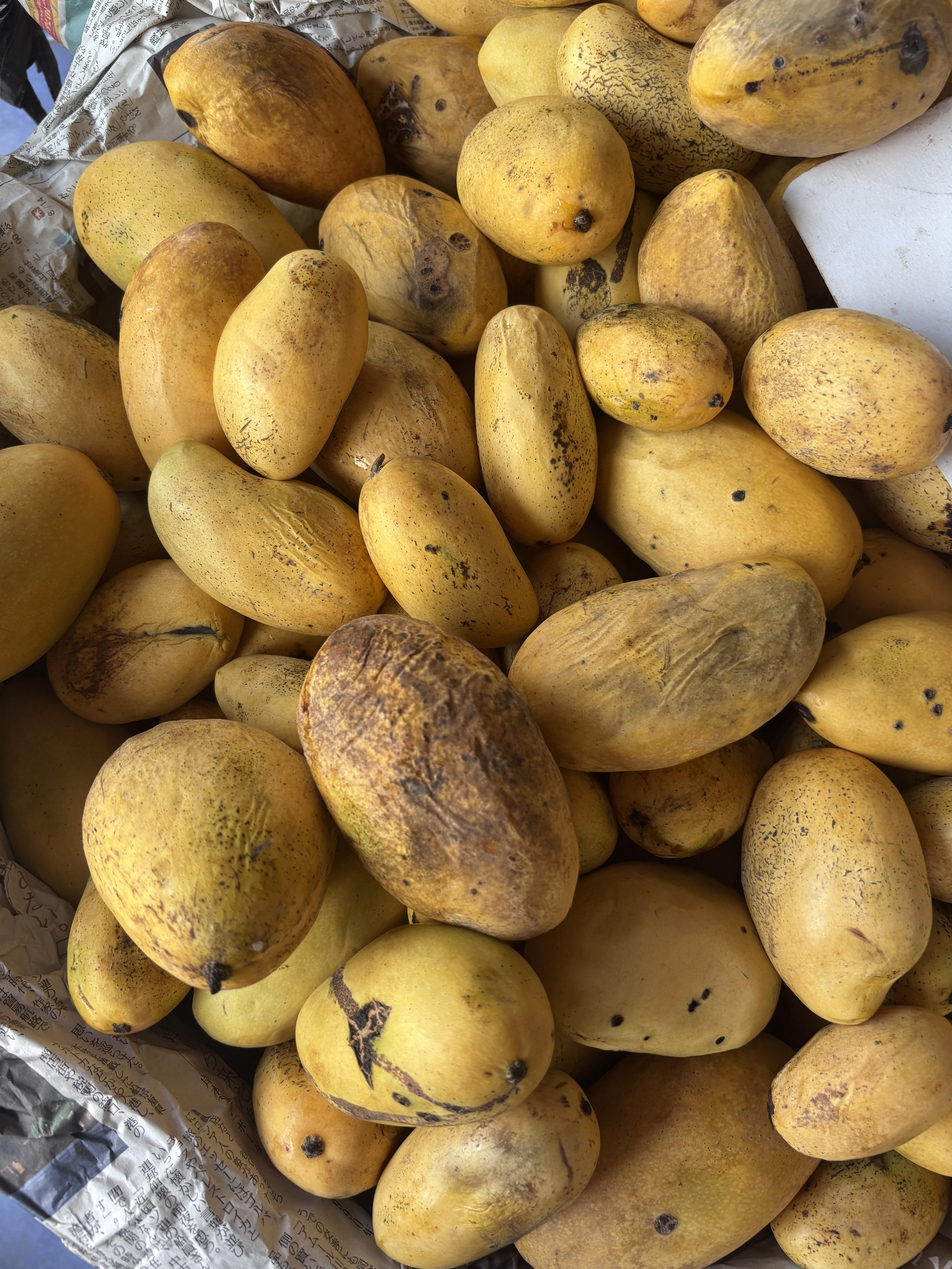mango: (298, 614, 578, 940), (82, 720, 336, 995), (511, 557, 825, 772), (742, 748, 932, 1025), (296, 924, 554, 1127), (148, 440, 384, 636), (164, 22, 385, 208), (742, 308, 952, 481), (213, 250, 368, 479), (359, 457, 538, 648), (457, 95, 635, 265), (475, 305, 597, 547), (576, 304, 733, 432)
occluded: (516, 1033, 817, 1269), (594, 409, 862, 608), (524, 860, 780, 1057), (372, 1068, 599, 1269), (193, 835, 407, 1048), (687, 0, 952, 157), (554, 3, 759, 194), (638, 170, 806, 387), (119, 222, 265, 469), (74, 141, 304, 290), (320, 175, 507, 356), (0, 666, 140, 907), (0, 667, 138, 906), (47, 559, 244, 724), (312, 321, 482, 502), (768, 1006, 952, 1160), (0, 444, 120, 680), (0, 305, 149, 491), (794, 611, 952, 776), (253, 1040, 403, 1198), (357, 36, 495, 197), (772, 1151, 950, 1269), (610, 735, 772, 858), (67, 879, 190, 1036), (535, 192, 657, 339), (828, 529, 952, 636), (765, 156, 837, 310), (478, 6, 585, 106), (215, 655, 310, 752), (859, 463, 952, 554), (885, 900, 952, 1015), (528, 543, 622, 620), (902, 776, 952, 902), (560, 769, 618, 875), (408, 0, 543, 37), (637, 0, 732, 45), (894, 1110, 952, 1177), (234, 619, 325, 661), (500, 0, 591, 8)
